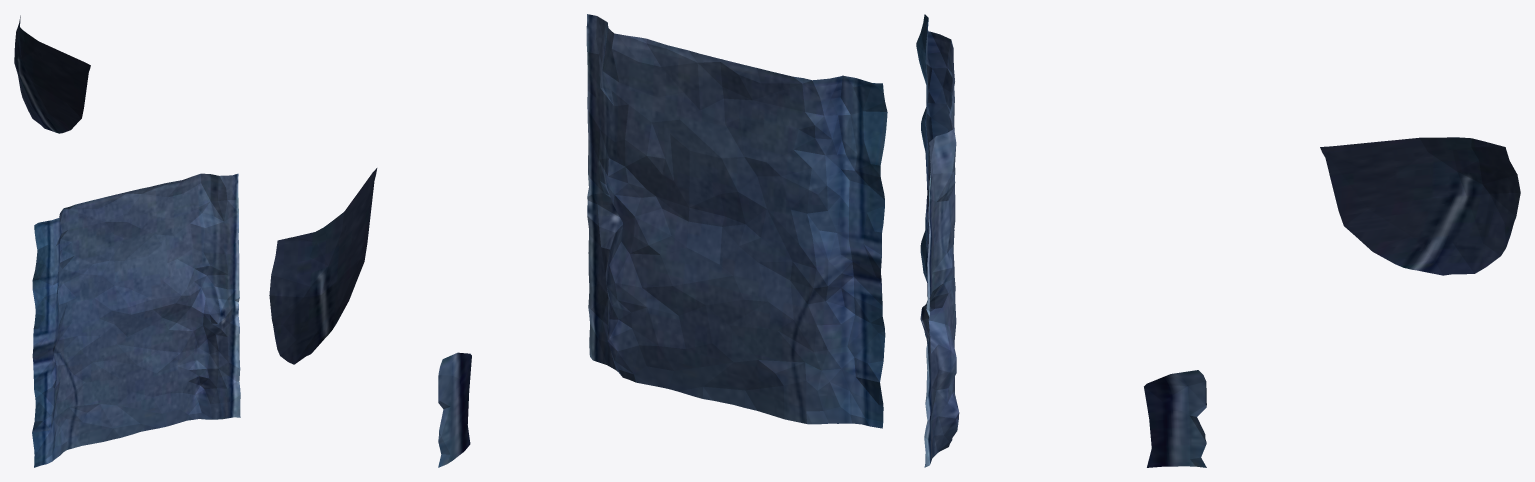
The model's file is tile_5_21_23_tex.obj.
3 renders of one model, left to right at view 1: azimuth 30°, elevation 25°; view 2: azimuth 150°, elevation 25°; view 3: azimuth 270°, elevation 25°, orthographic. The views are drawn at different scales.
Visible parts, largest first — view 1: obj_0; view 2: obj_0; view 3: obj_0.
Part boxes in pixels (box(x1,y1,x2,y2)): obj_0: box(14, 15, 240, 467); obj_0: box(269, 14, 887, 467); obj_0: box(916, 14, 1520, 467).
Bounding box in the file's own units: 5.01 × 5.64 × 9.62.
1 material, 1 textured.
